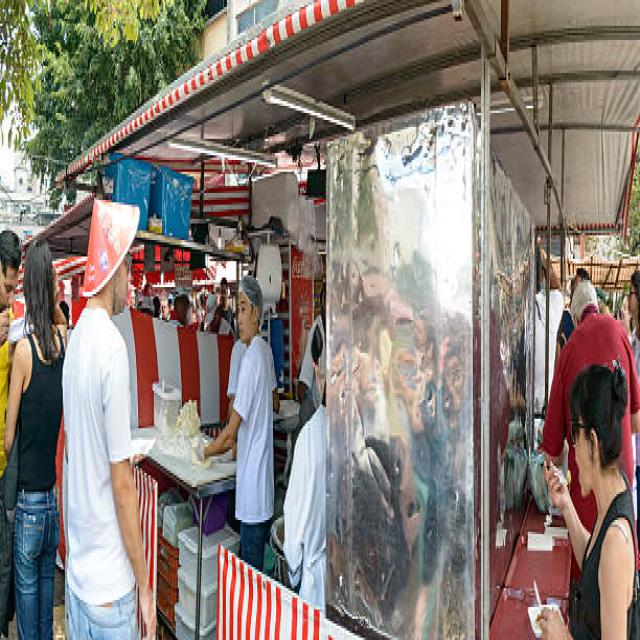Emperan: (73, 0, 560, 640)
